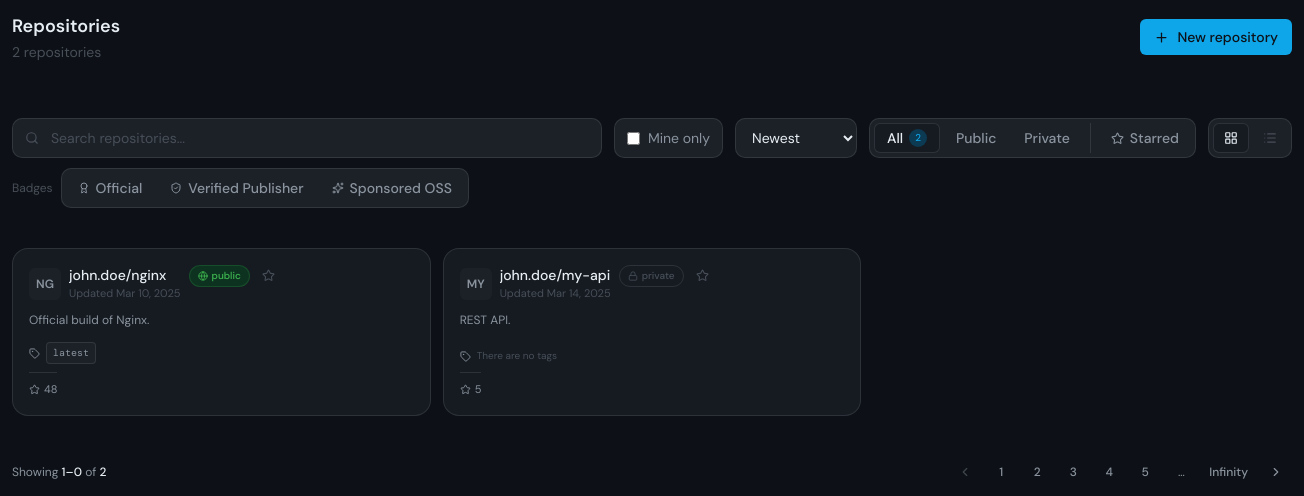
RepositoriesPage › prebacuje na table prikaz
Click the button named "Table view".
click(1270, 138)  # box [1253, 123, 1287, 153]
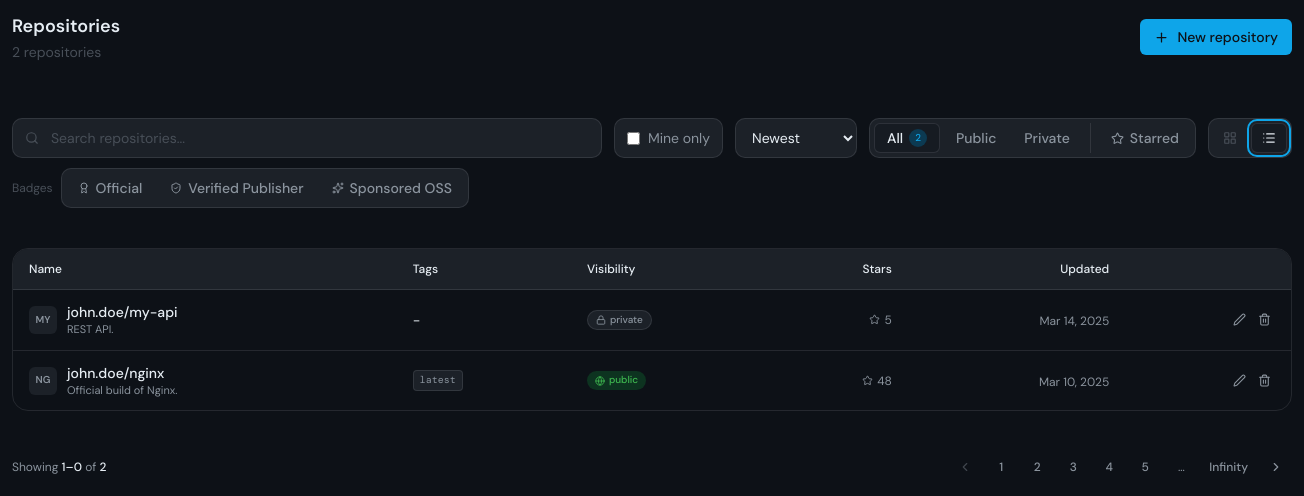
Expected: the text "Stars" is shown, [862, 261, 892, 277]
